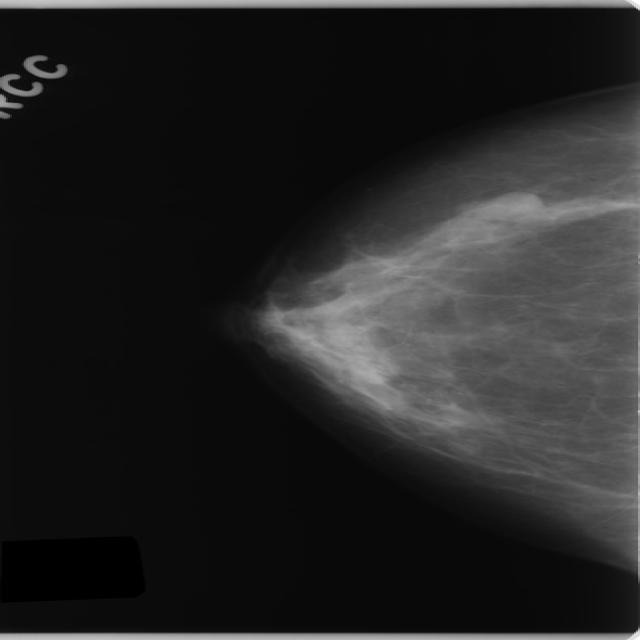tumour: (475, 190, 541, 219)
